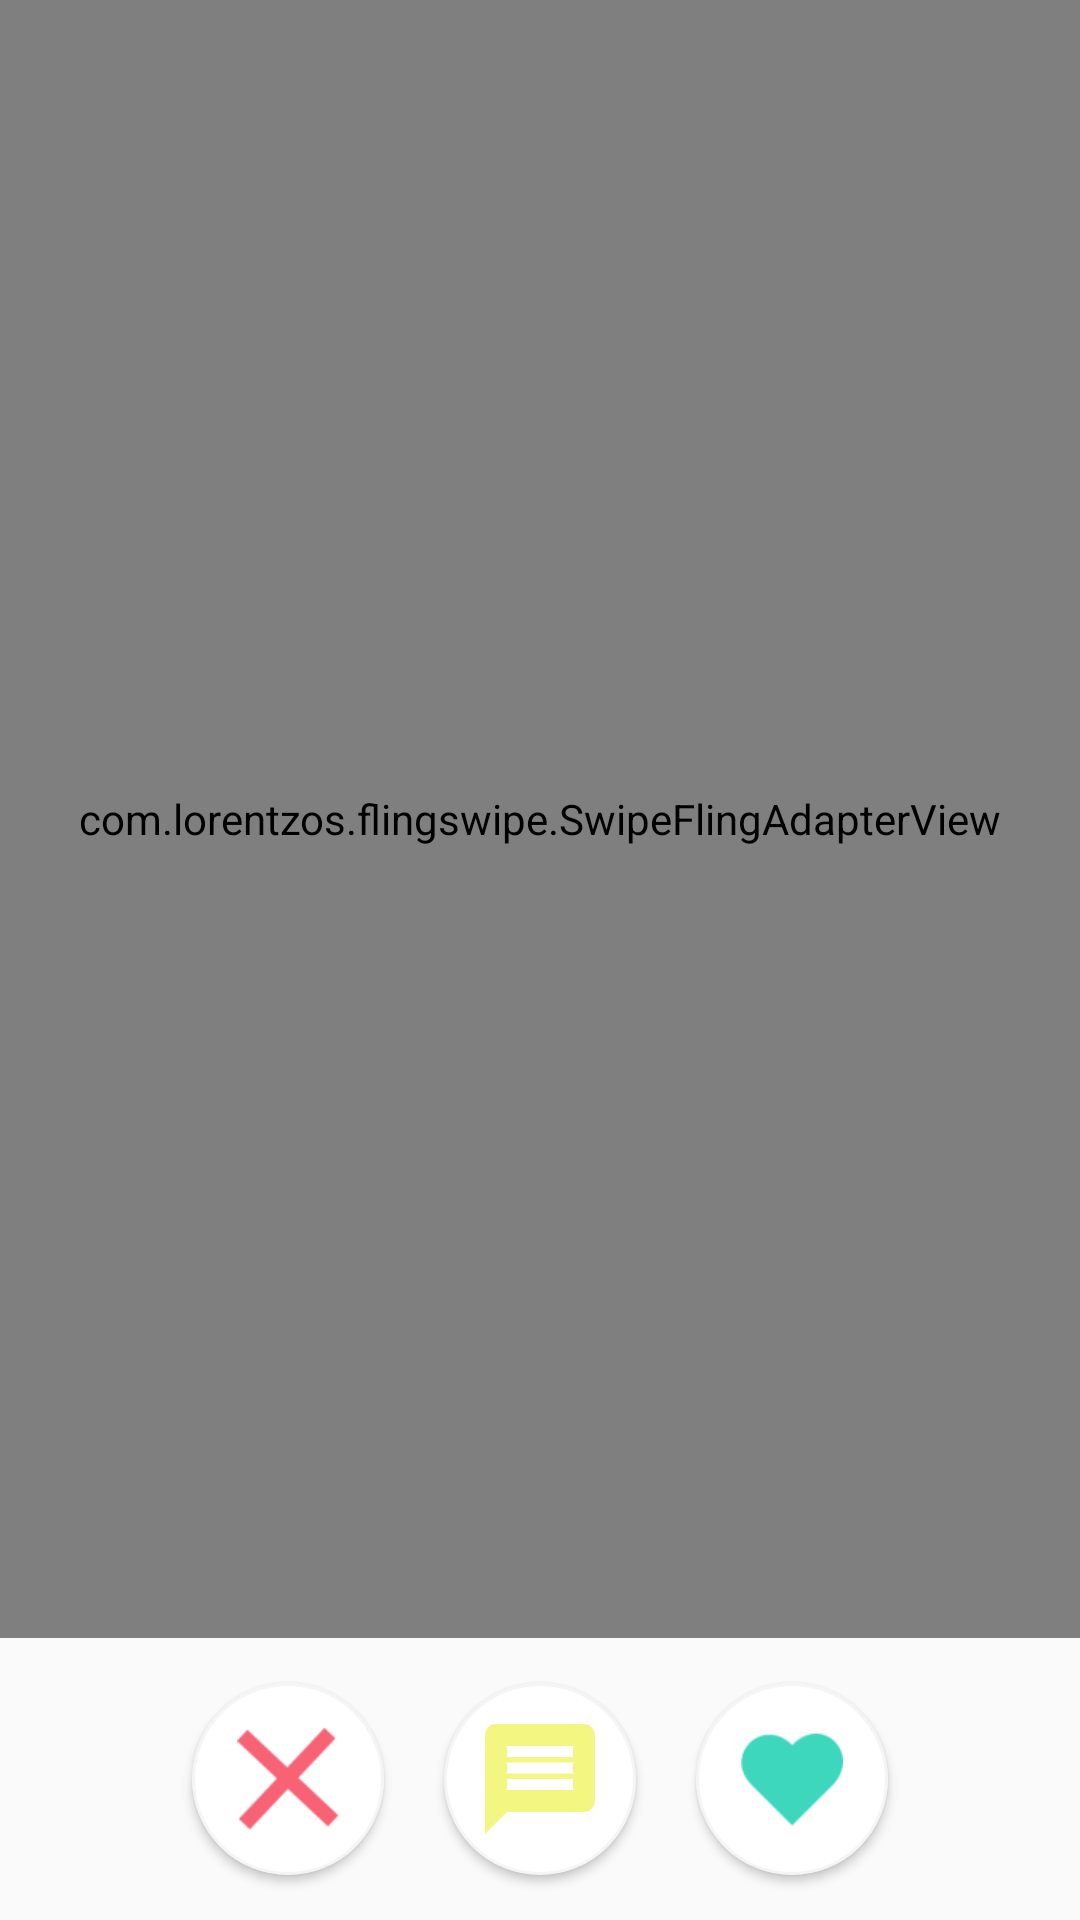

Where to tap for icons on this 1080x1920 app screen, as [x,y]:
like: [770,1779]
skip: [309,1779]
